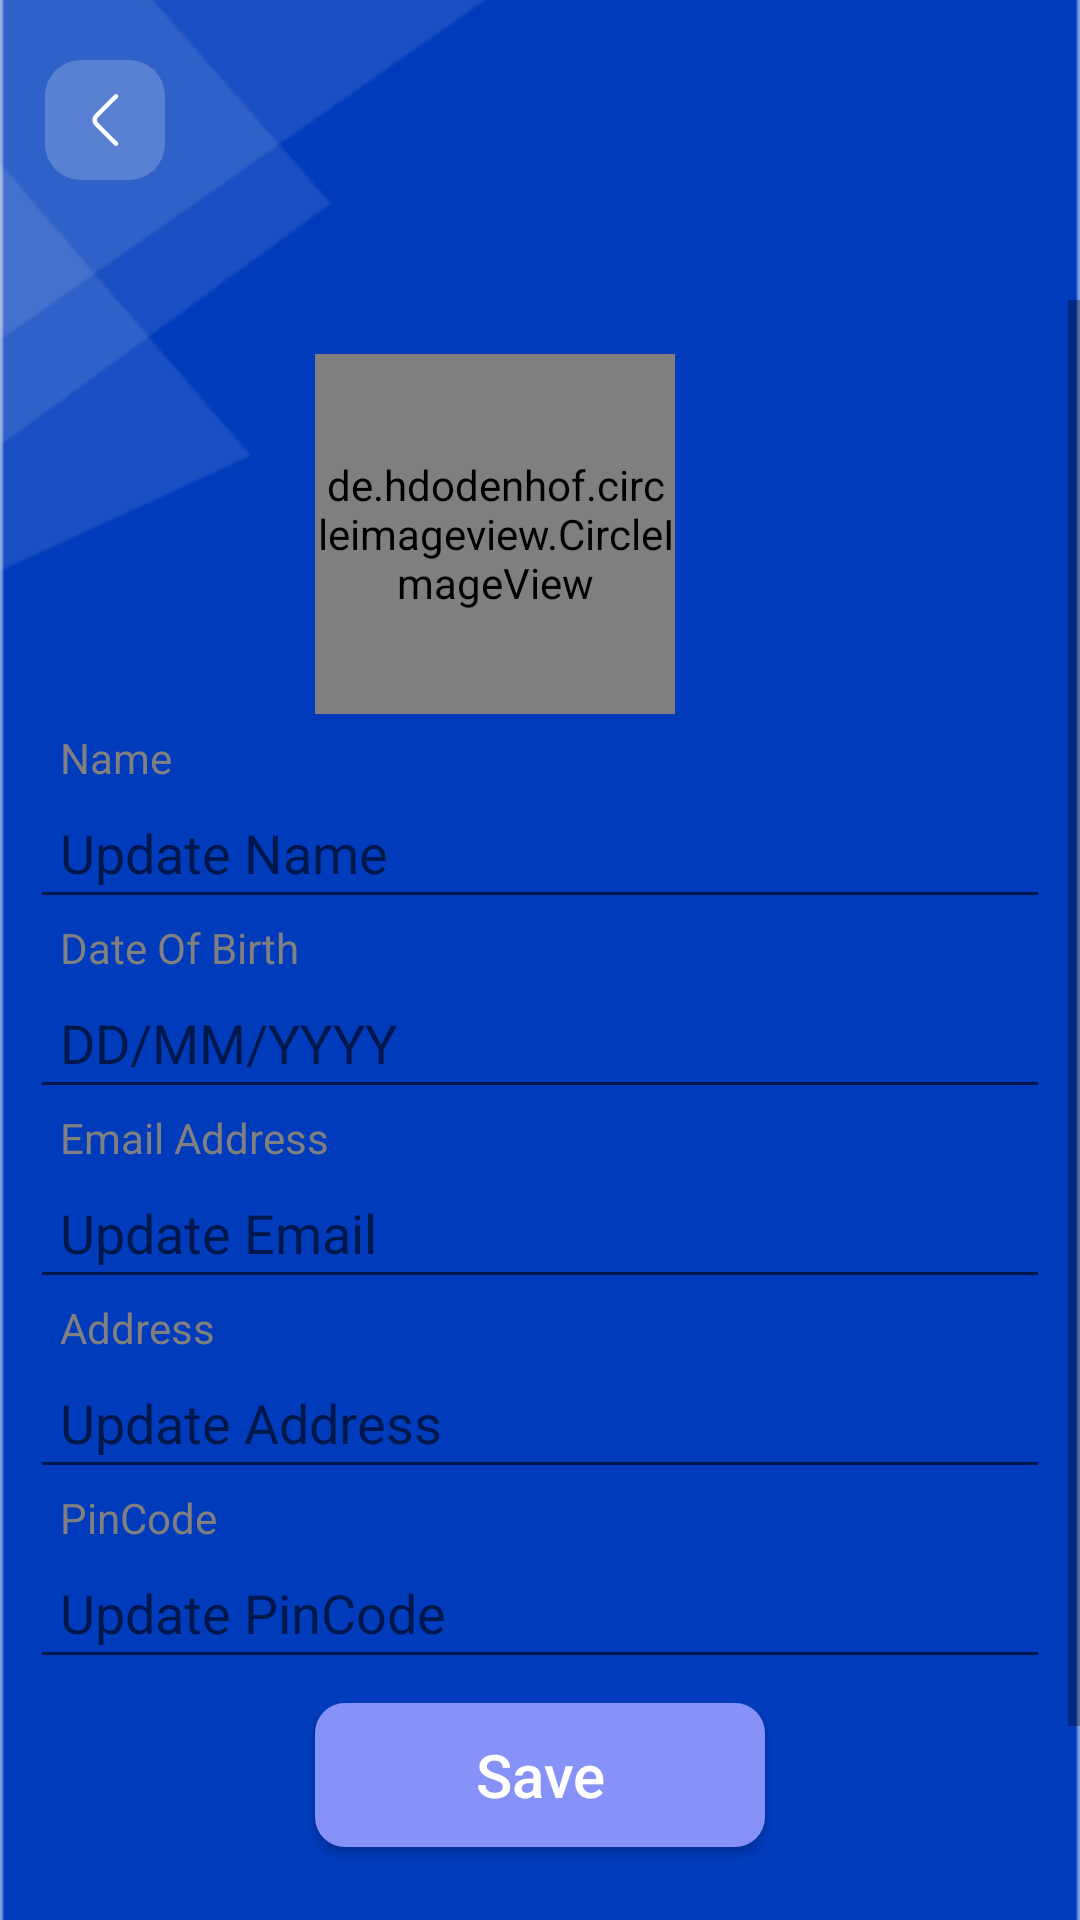

Icon bounding boxes for this 1080w x 1920h phone screenshot, format BBox(x1, y1, x2, y2):
back: BBox(45, 60, 165, 180)
